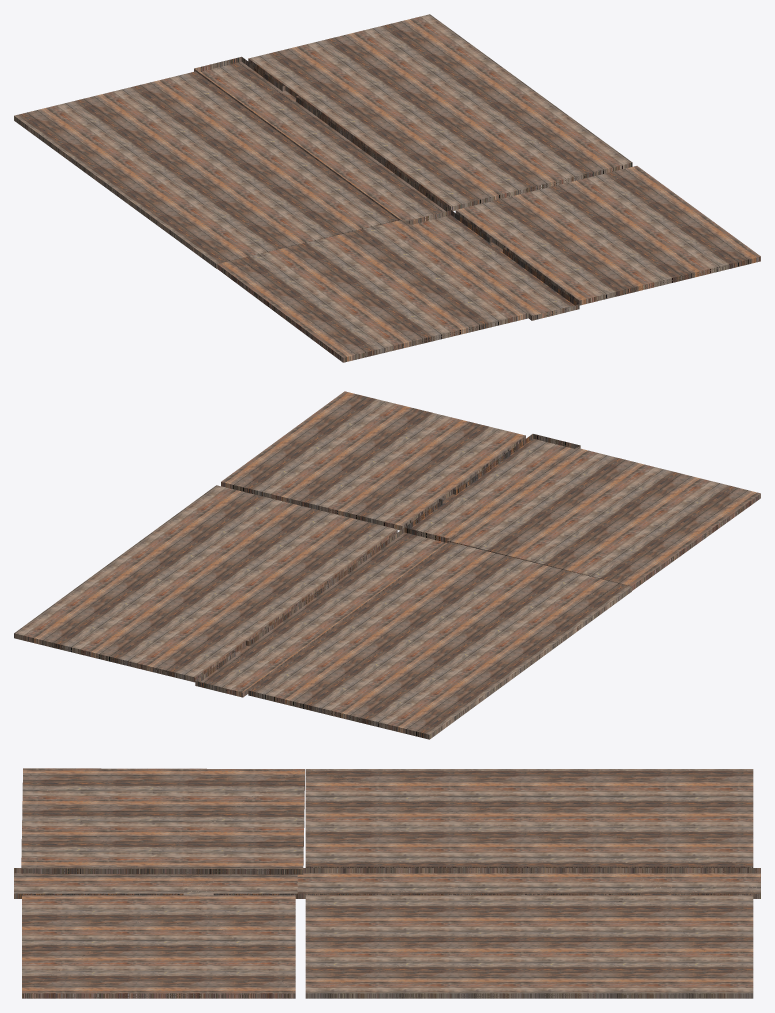
The model's file is roof.fbx.
3 renders of one model, top to bottom at view 1: azimuth 30°, elevation 25°; view 2: azimuth 150°, elevation 25°; view 3: azimuth 270°, elevation 25°, orthographic. The views are drawn at different scales.
Parts seen in each view (by area): view 1: house.002; view 2: house.002; view 3: house.002.
Boxes of the visible parts, x1,y1,x2,y2 form: house.002: (14, 14, 760, 362); house.002: (14, 391, 760, 739); house.002: (14, 768, 760, 998).
Size of the model in its own units: 35.58 by 0.4168 by 49.92.
